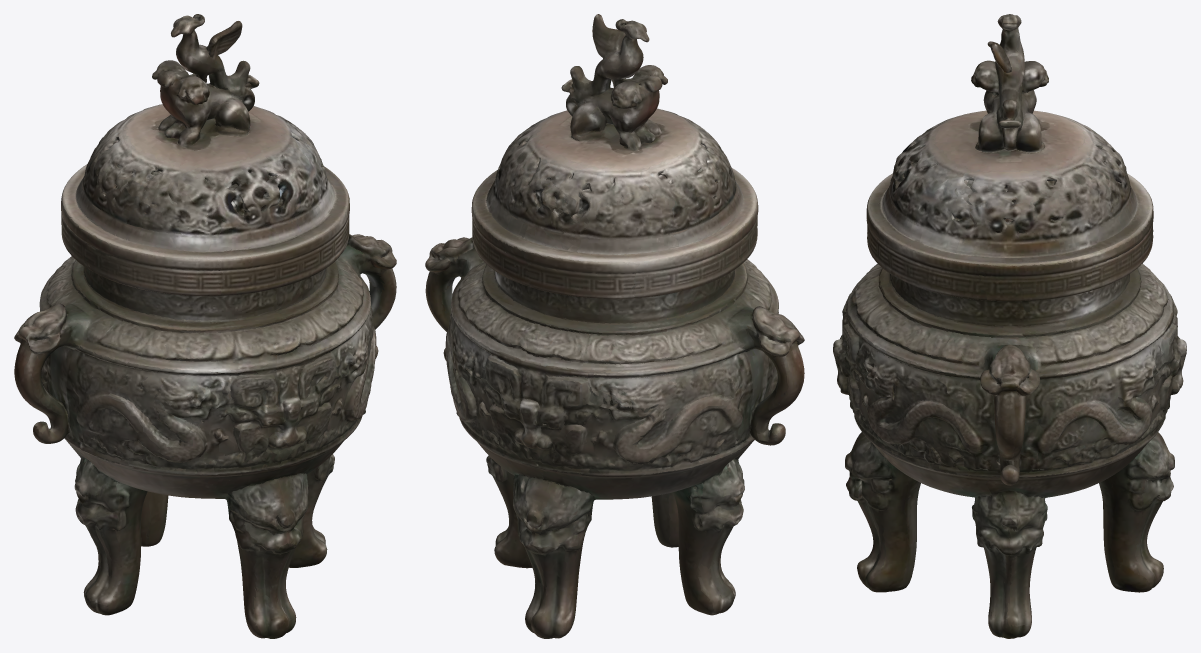
File: incense-burner.glb
3 renders of one model, left to right at view 1: azimuth 30°, elevation 25°; view 2: azimuth 150°, elevation 25°; view 3: azimuth 270°, elevation 25°, orthographic.
Parts seen in each view (by area): view 1: geometry_0; view 2: geometry_0; view 3: geometry_0.
Part boxes in pixels (left/top/right/bottom): geometry_0: left=14, top=14, right=396, bottom=638; geometry_0: left=425, top=14, right=804, bottom=638; geometry_0: left=833, top=14, right=1186, bottom=638.
Bounding box in the file's own units: 0.241 × 0.35 × 0.1997.
1 material, 1 textured.
